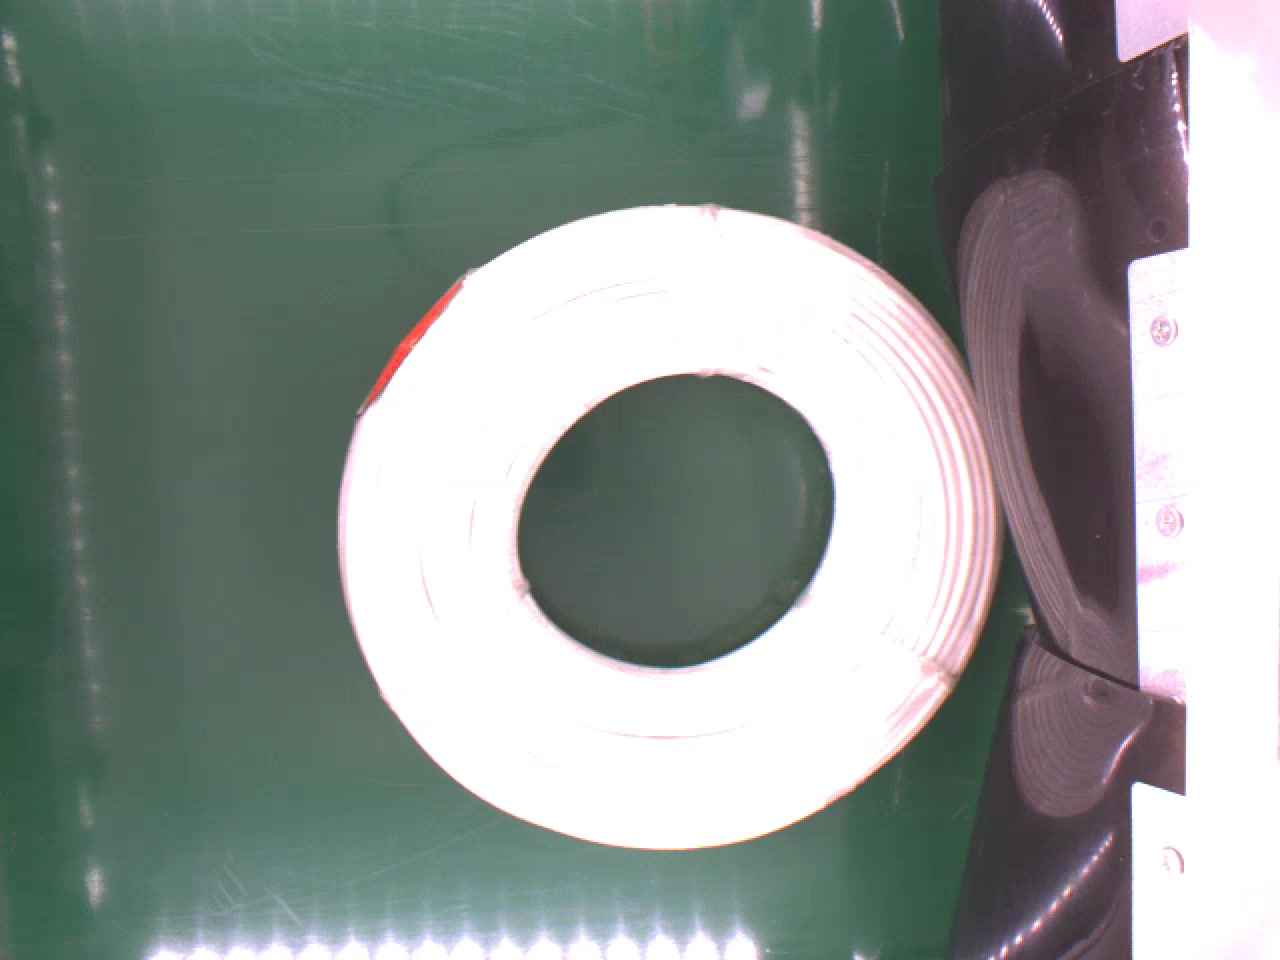white: (336, 196, 1001, 859)
